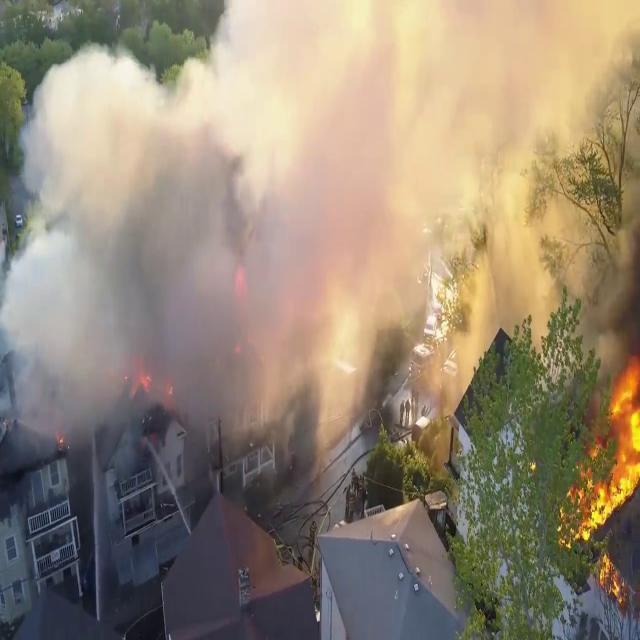Fire: (565, 360, 639, 564)
Smoke: (0, 0, 584, 466)
